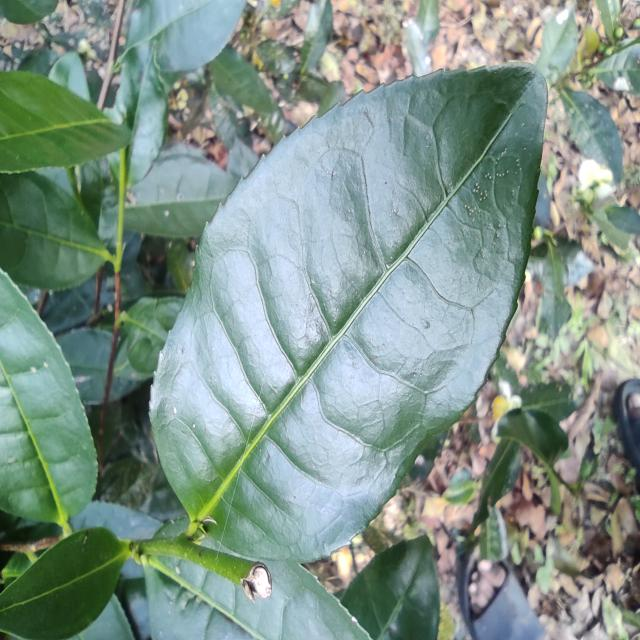Category D(7+ days, Not for Tea): (137, 36, 558, 573)
